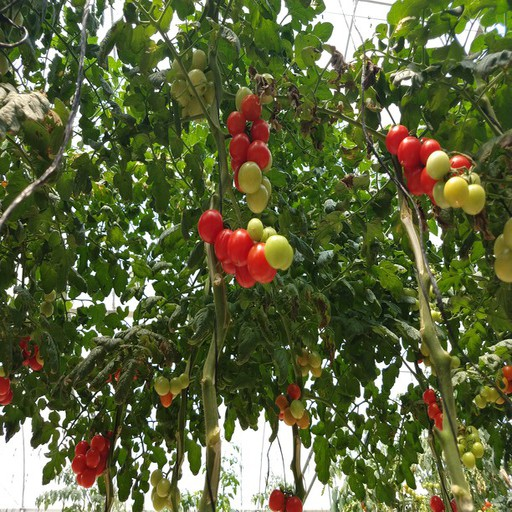dry leaves: (248, 45, 384, 137)
green tomato bunch: (385, 125, 471, 202), (168, 42, 220, 126), (411, 309, 461, 381), (272, 382, 313, 433), (151, 366, 189, 407), (454, 424, 485, 469), (150, 471, 182, 511), (39, 284, 71, 320), (292, 342, 323, 379)
red tomato bunch: (197, 208, 294, 288), (228, 96, 274, 189), (74, 429, 120, 492), (419, 388, 453, 438), (14, 333, 46, 372), (264, 486, 307, 512), (1, 371, 19, 409)
